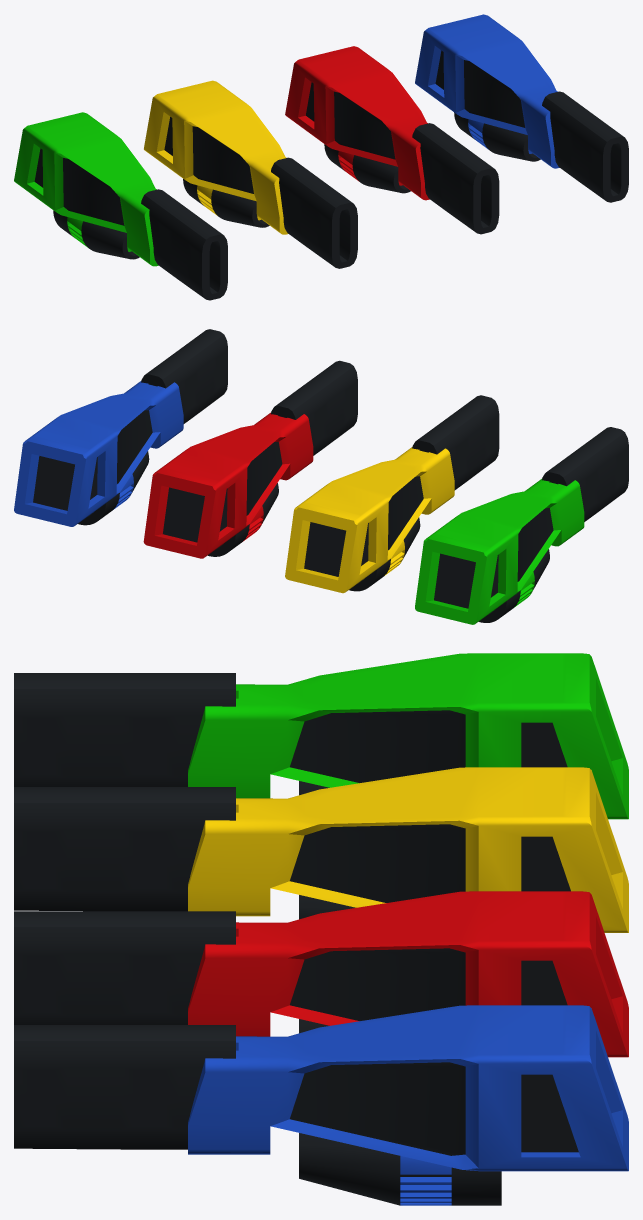
File: LaserGunLevel1.fbx
The picture shows the model from 3 angles, top to bottom: view 1: azimuth 30°, elevation 25°; view 2: azimuth 150°, elevation 25°; view 3: azimuth 270°, elevation 25°; orthographic projection. The views are drawn at different scales.
Parts seen in each view (by area): view 1: LaserGunLevel1Red, LaserGunLevel1Yellow, LaserGunLevel1Green, LaserGunLevel1Blue; view 2: LaserGunLevel1Yellow, LaserGunLevel1Red, LaserGunLevel1Green, LaserGunLevel1Blue; view 3: LaserGunLevel1Blue, LaserGunLevel1Yellow, LaserGunLevel1Green, LaserGunLevel1Red.
Boxes of the visible parts, left/top/right/bottom form: LaserGunLevel1Red: left=285, top=46, right=499, bottom=234; LaserGunLevel1Yellow: left=144, top=80, right=357, bottom=268; LaserGunLevel1Green: left=14, top=112, right=227, bottom=300; LaserGunLevel1Blue: left=415, top=14, right=628, bottom=202; LaserGunLevel1Yellow: left=285, top=395, right=499, bottom=593; LaserGunLevel1Red: left=143, top=360, right=357, bottom=558; LaserGunLevel1Green: left=415, top=427, right=628, bottom=624; LaserGunLevel1Blue: left=14, top=329, right=227, bottom=526; LaserGunLevel1Blue: left=14, top=1005, right=628, bottom=1205; LaserGunLevel1Yellow: left=14, top=767, right=628, bottom=932; LaserGunLevel1Green: left=14, top=653, right=628, bottom=819; LaserGunLevel1Red: left=14, top=891, right=628, bottom=1057.
Size of the model in its own units: 361 by 70.71 by 230.
